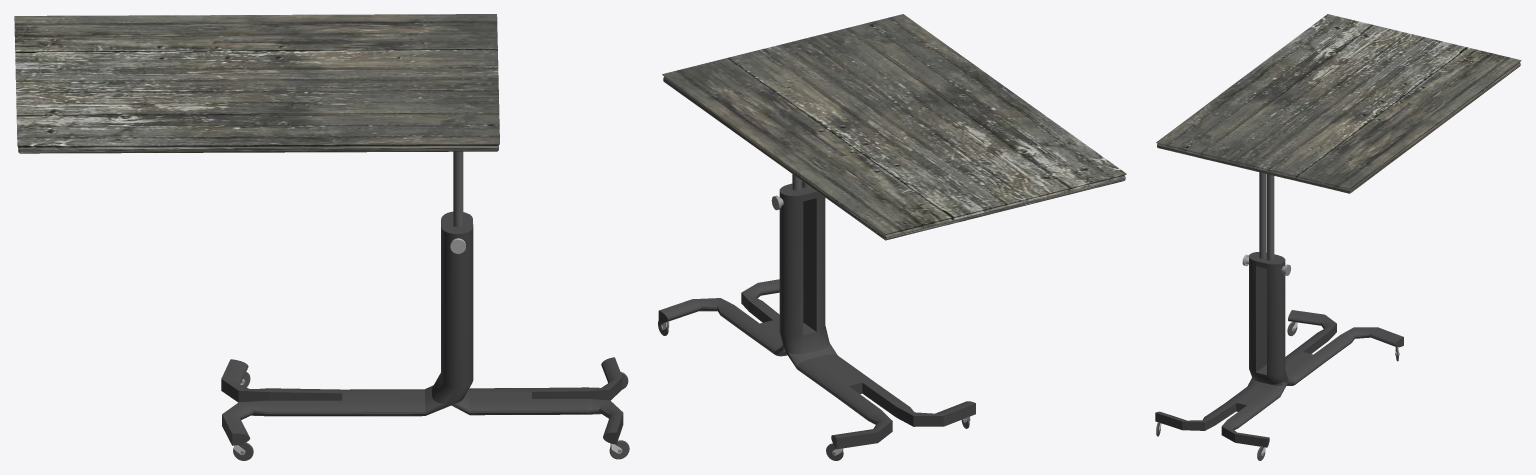
File: item_table.glb
The picture shows the model from 3 angles, left to right: view 1: azimuth 30°, elevation 25°; view 2: azimuth 150°, elevation 25°; view 3: azimuth 270°, elevation 25°; orthographic projection. The views are drawn at different scales.
Parts seen in each view (by area): view 1: table:pCube2; view 2: table:pCube2; view 3: table:pCube2.
Part boxes in pixels (x1,y1,x2,y2): table:pCube2: [14, 14, 629, 460]; table:pCube2: [658, 14, 1126, 460]; table:pCube2: [1155, 14, 1521, 460].
Bounding box in the file's own units: 1.18 × 0.6923 × 0.9184.
7 materials, 1 textured.
